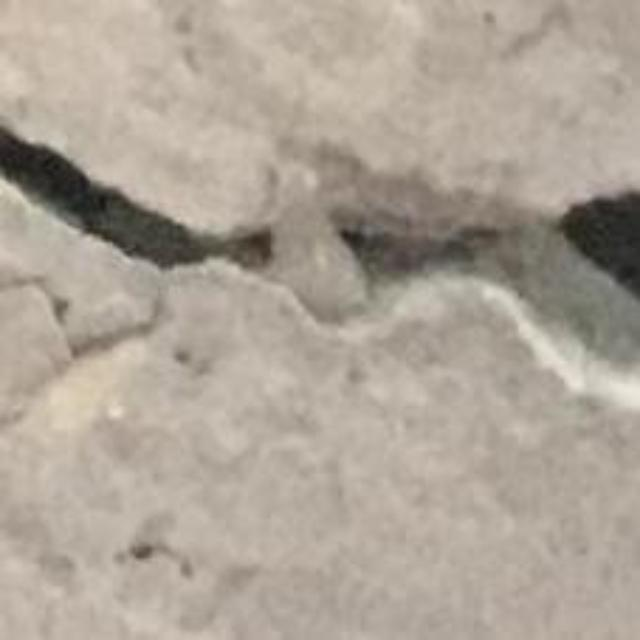crack: (0, 130, 639, 377)
